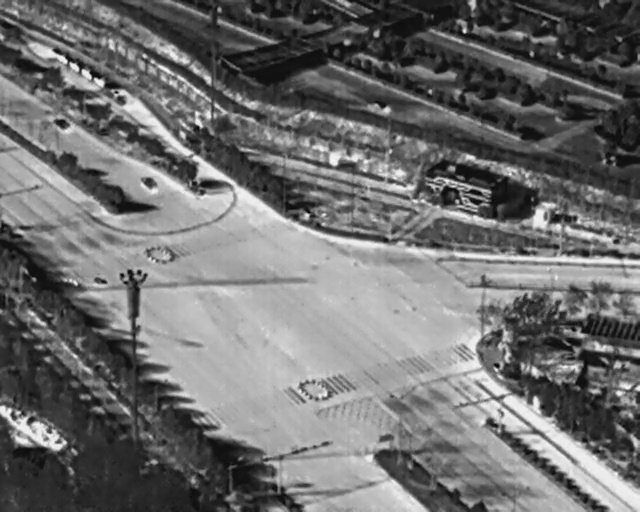Car: (137, 171, 162, 196), (50, 113, 72, 134)
